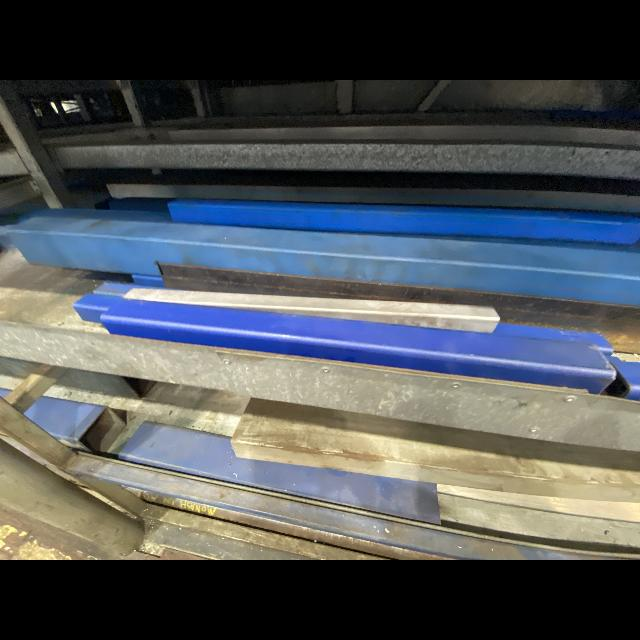Ferrous Metal: (5, 207, 640, 305), (68, 453, 633, 560), (98, 298, 617, 395), (156, 263, 640, 355), (230, 398, 640, 502), (118, 420, 441, 526), (126, 487, 459, 560), (167, 199, 640, 244), (23, 396, 126, 456), (73, 293, 123, 323), (93, 282, 186, 297), (132, 275, 166, 288), (0, 388, 14, 398)
Stainless Steel: (122, 289, 500, 333)
